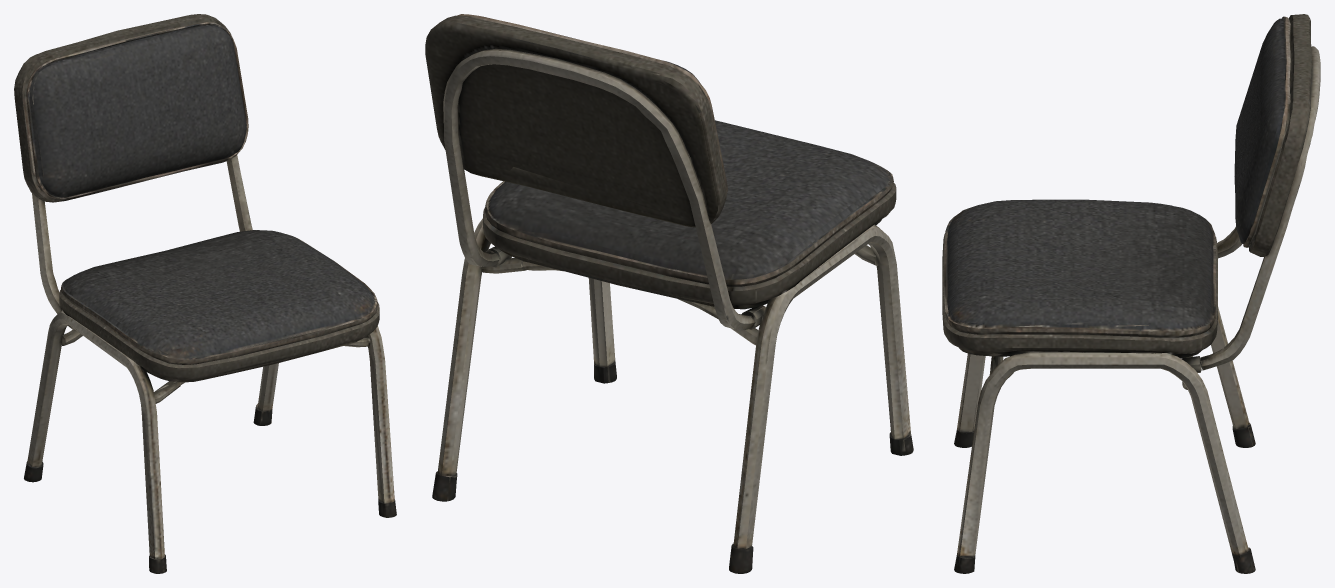
File: E_Chair.fbx
The picture shows the model from 3 angles, left to right: view 1: azimuth 30°, elevation 25°; view 2: azimuth 150°, elevation 25°; view 3: azimuth 270°, elevation 25°; orthographic projection. The views are drawn at different scales.
Parts seen in each view (by area): view 1: E_Chair; view 2: E_Chair; view 3: E_Chair.
Boxes of the visible parts, x1,y1,x2,y2 form: E_Chair: [14, 14, 396, 573]; E_Chair: [425, 14, 913, 573]; E_Chair: [942, 14, 1320, 573].
Size of the model in its own units: 75.18 by 117 by 89.35.
1 material, 1 textured.
